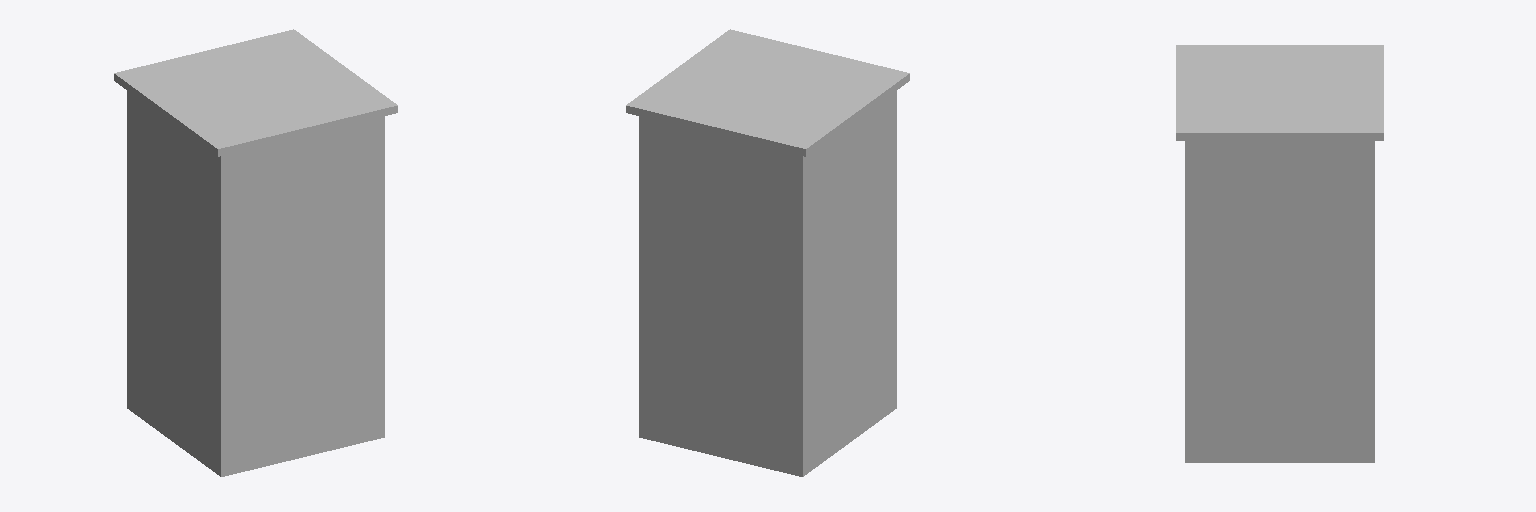
File: prediobegeclaro.obj
3 renders of one model, left to right at view 1: azimuth 30°, elevation 25°; view 2: azimuth 150°, elevation 25°; view 3: azimuth 270°, elevation 25°, orthographic.
Visible parts, largest first — view 1: Cube; view 2: Cube; view 3: Cube.
Part boxes in pixels (x1,y1,x2,y2): Cube: (114, 29, 397, 476); Cube: (626, 29, 909, 476); Cube: (1176, 45, 1383, 462).
Size of the model in its own units: 2.2 by 3.88 by 2.2.